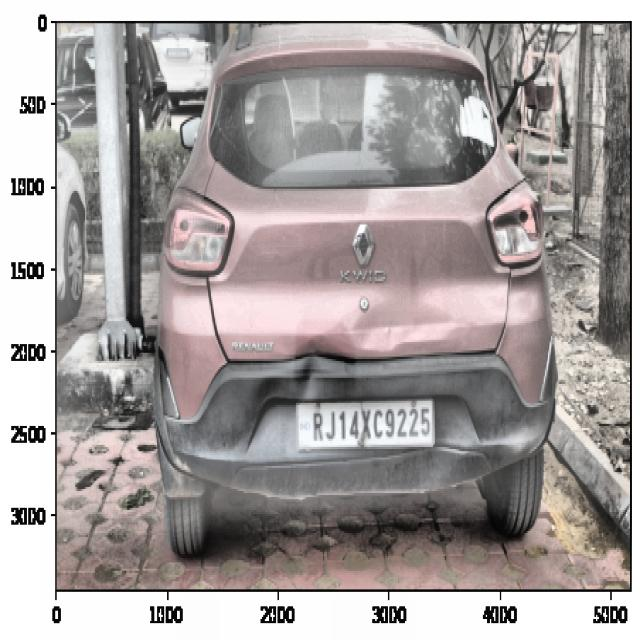license_plate: (310, 400, 433, 449)
